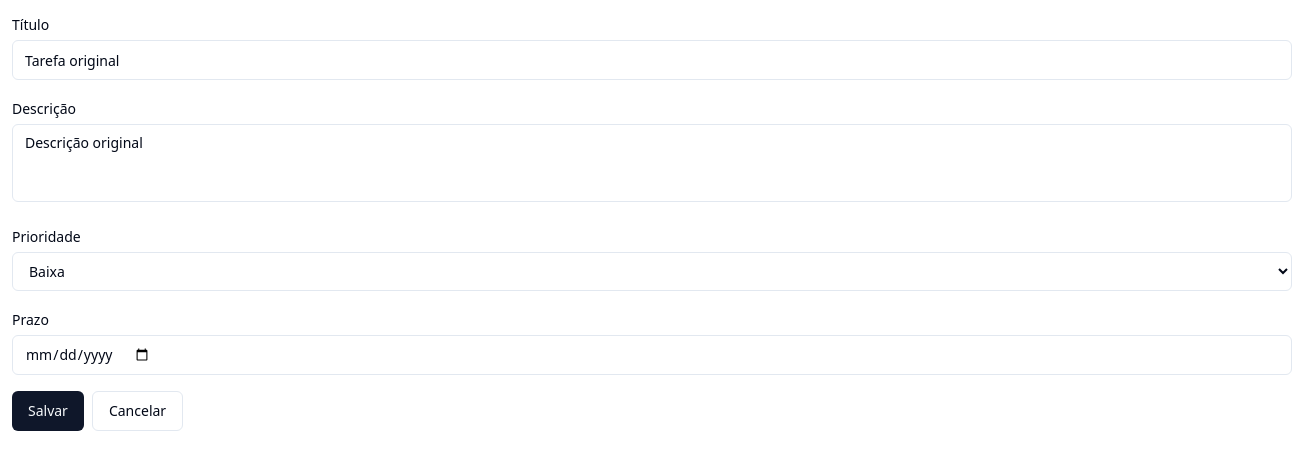
Scenario: EditTaskForm › shows validation error when title is cleared
This screenshot has width=1304, height=476.
Clear the field showing "Tarefa original" at (652, 60), box [12,40,1292,80]
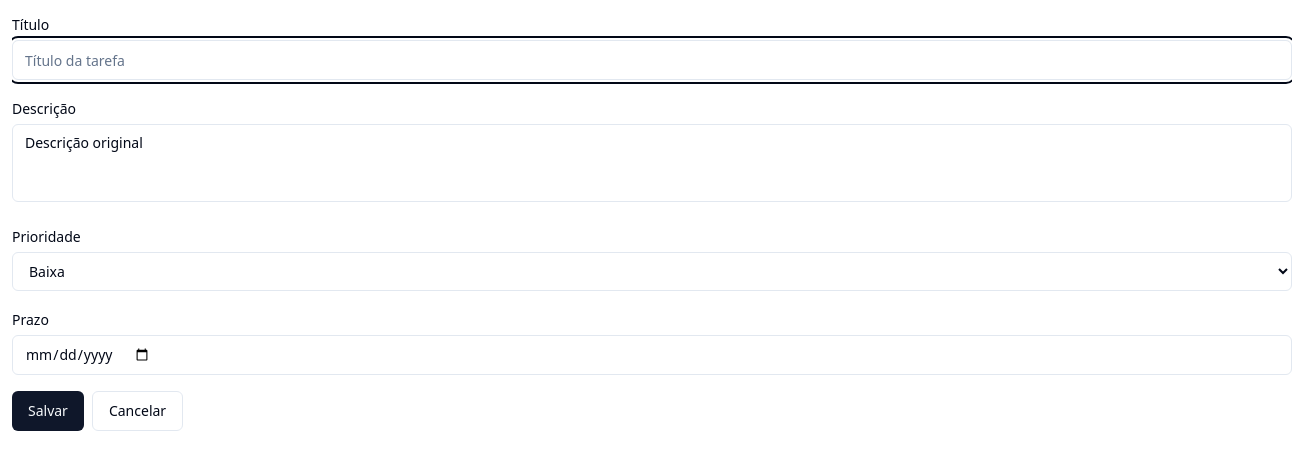
Click the button "Salvar" at (48, 411), box [12,391,84,431]
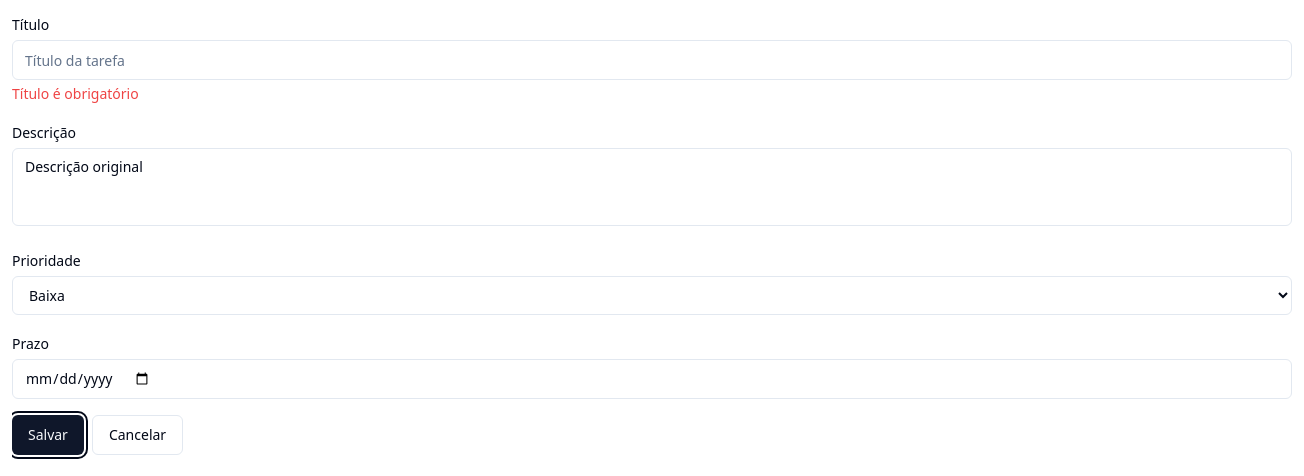
Now the text "Título é obrigatório" is shown, box [12,84,139,103]
